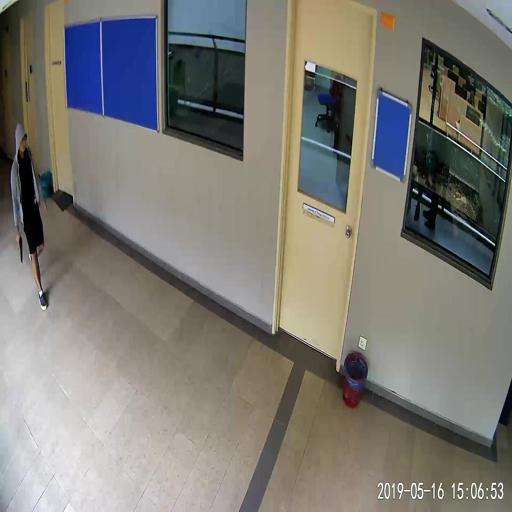pistol: (16, 234, 23, 264)
